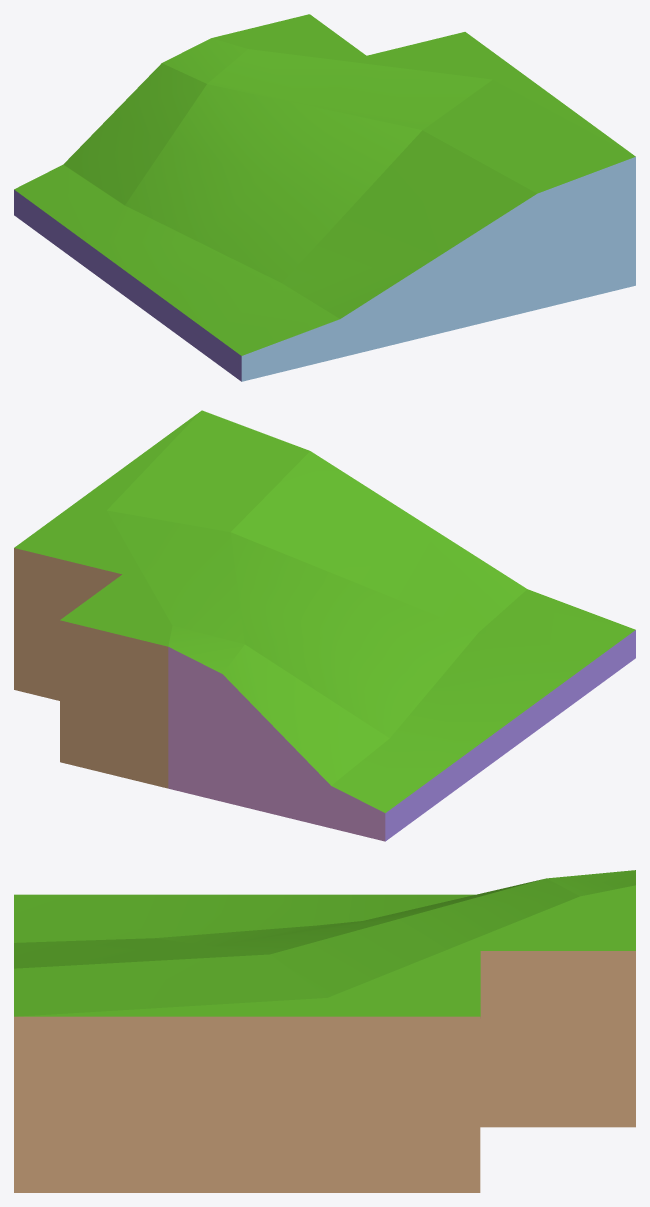
The model's file is Grass_Hill_Grade_Transition_Straight_Front_4x4.glb.
3 views of the same model, one above another, from view 1: azimuth 30°, elevation 25°; view 2: azimuth 150°, elevation 25°; view 3: azimuth 270°, elevation 25° (orthographic). The views are drawn at different scales.
Visible parts, largest first — view 1: Grass_Hill_Grade_Transition_Straight_Front_4x4; view 2: Grass_Hill_Grade_Transition_Straight_Front_4x4; view 3: Grass_Hill_Grade_Transition_Straight_Front_4x4.
Boxes of the visible parts, <box> form: Grass_Hill_Grade_Transition_Straight_Front_4x4: <box>14,14,635,381</box>; Grass_Hill_Grade_Transition_Straight_Front_4x4: <box>14,410,635,841</box>; Grass_Hill_Grade_Transition_Straight_Front_4x4: <box>14,870,635,1192</box>.
Bounding box in the file's own units: 400 × 125 × 400.
